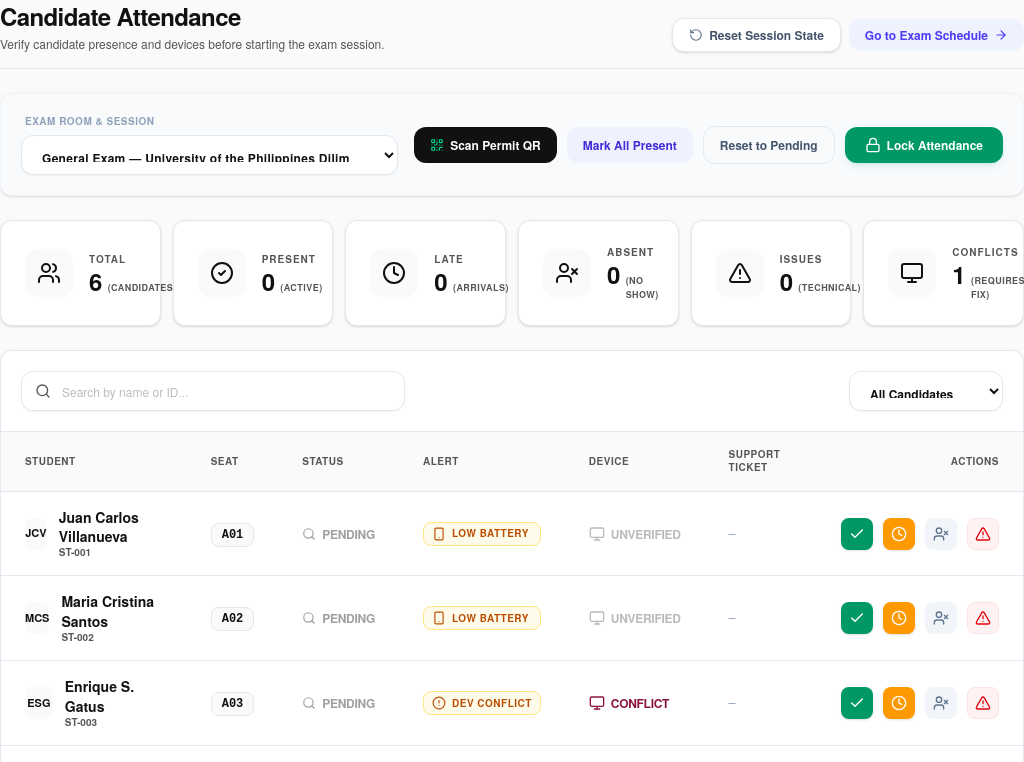
Test: ProctorAttendance — QR scan › opens the scan modal when Scan QR is clicked
The width and height of the screenshot is (1024, 762).
Step 1. Click the button "Scan Permit QR" → (486, 144), box [414,126,557,162]
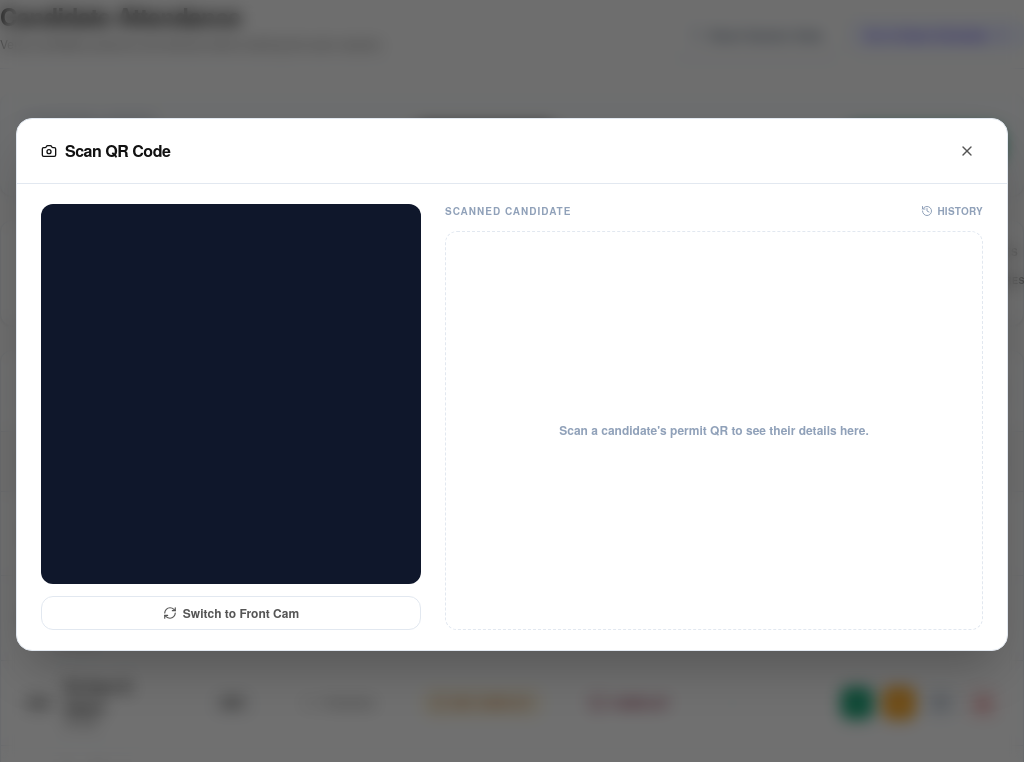
Result: the dialog is shown
